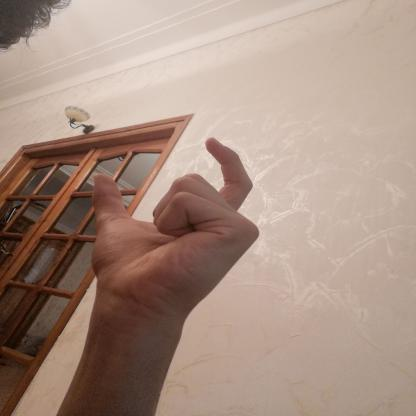NOON: (71, 126, 276, 331)
